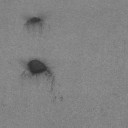iron sheet ash: (25, 58, 52, 78), (22, 14, 44, 26)
